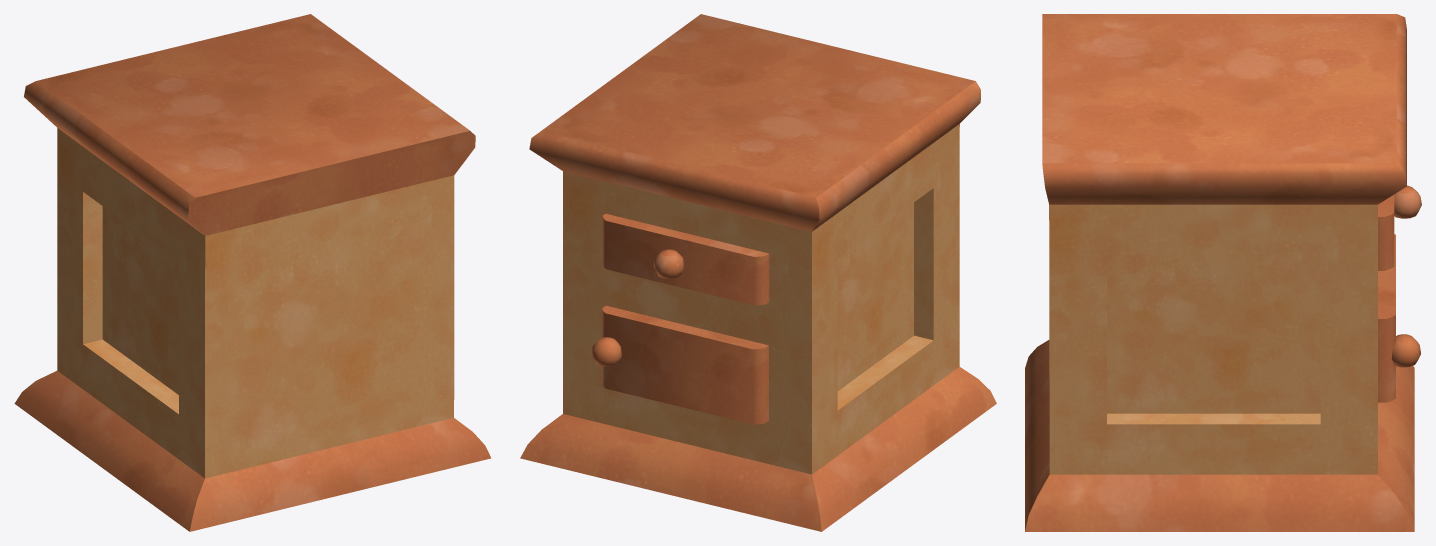
File: SM_Little_Dresser_01.fbx
The picture shows the model from 3 angles, left to right: view 1: azimuth 30°, elevation 25°; view 2: azimuth 150°, elevation 25°; view 3: azimuth 270°, elevation 25°; orthographic projection. The views are drawn at different scales.
Visible parts, largest first — view 1: SM_Little_Dresser; view 2: SM_Little_Dresser; view 3: SM_Little_Dresser.
Part boxes in pixels (x1,y1,x2,y2): SM_Little_Dresser: (14,14,490,531); SM_Little_Dresser: (520,14,996,531); SM_Little_Dresser: (1025,14,1421,531).
Bounding box in the file's own units: 96.77 × 99.64 × 99.15.
